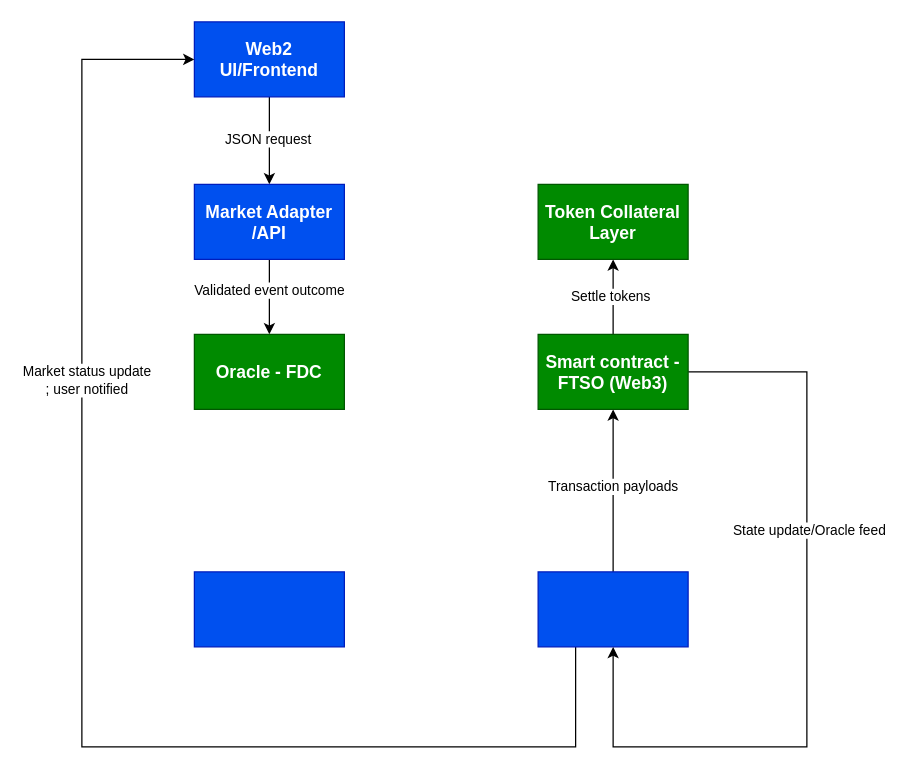
Image size: 906x779. Some labels were removed from this diagram. Each missing label, with the centre of its shape:
"Backend" goes at [612,609].
"Pure functions (core logic)" goes at [268,609].
